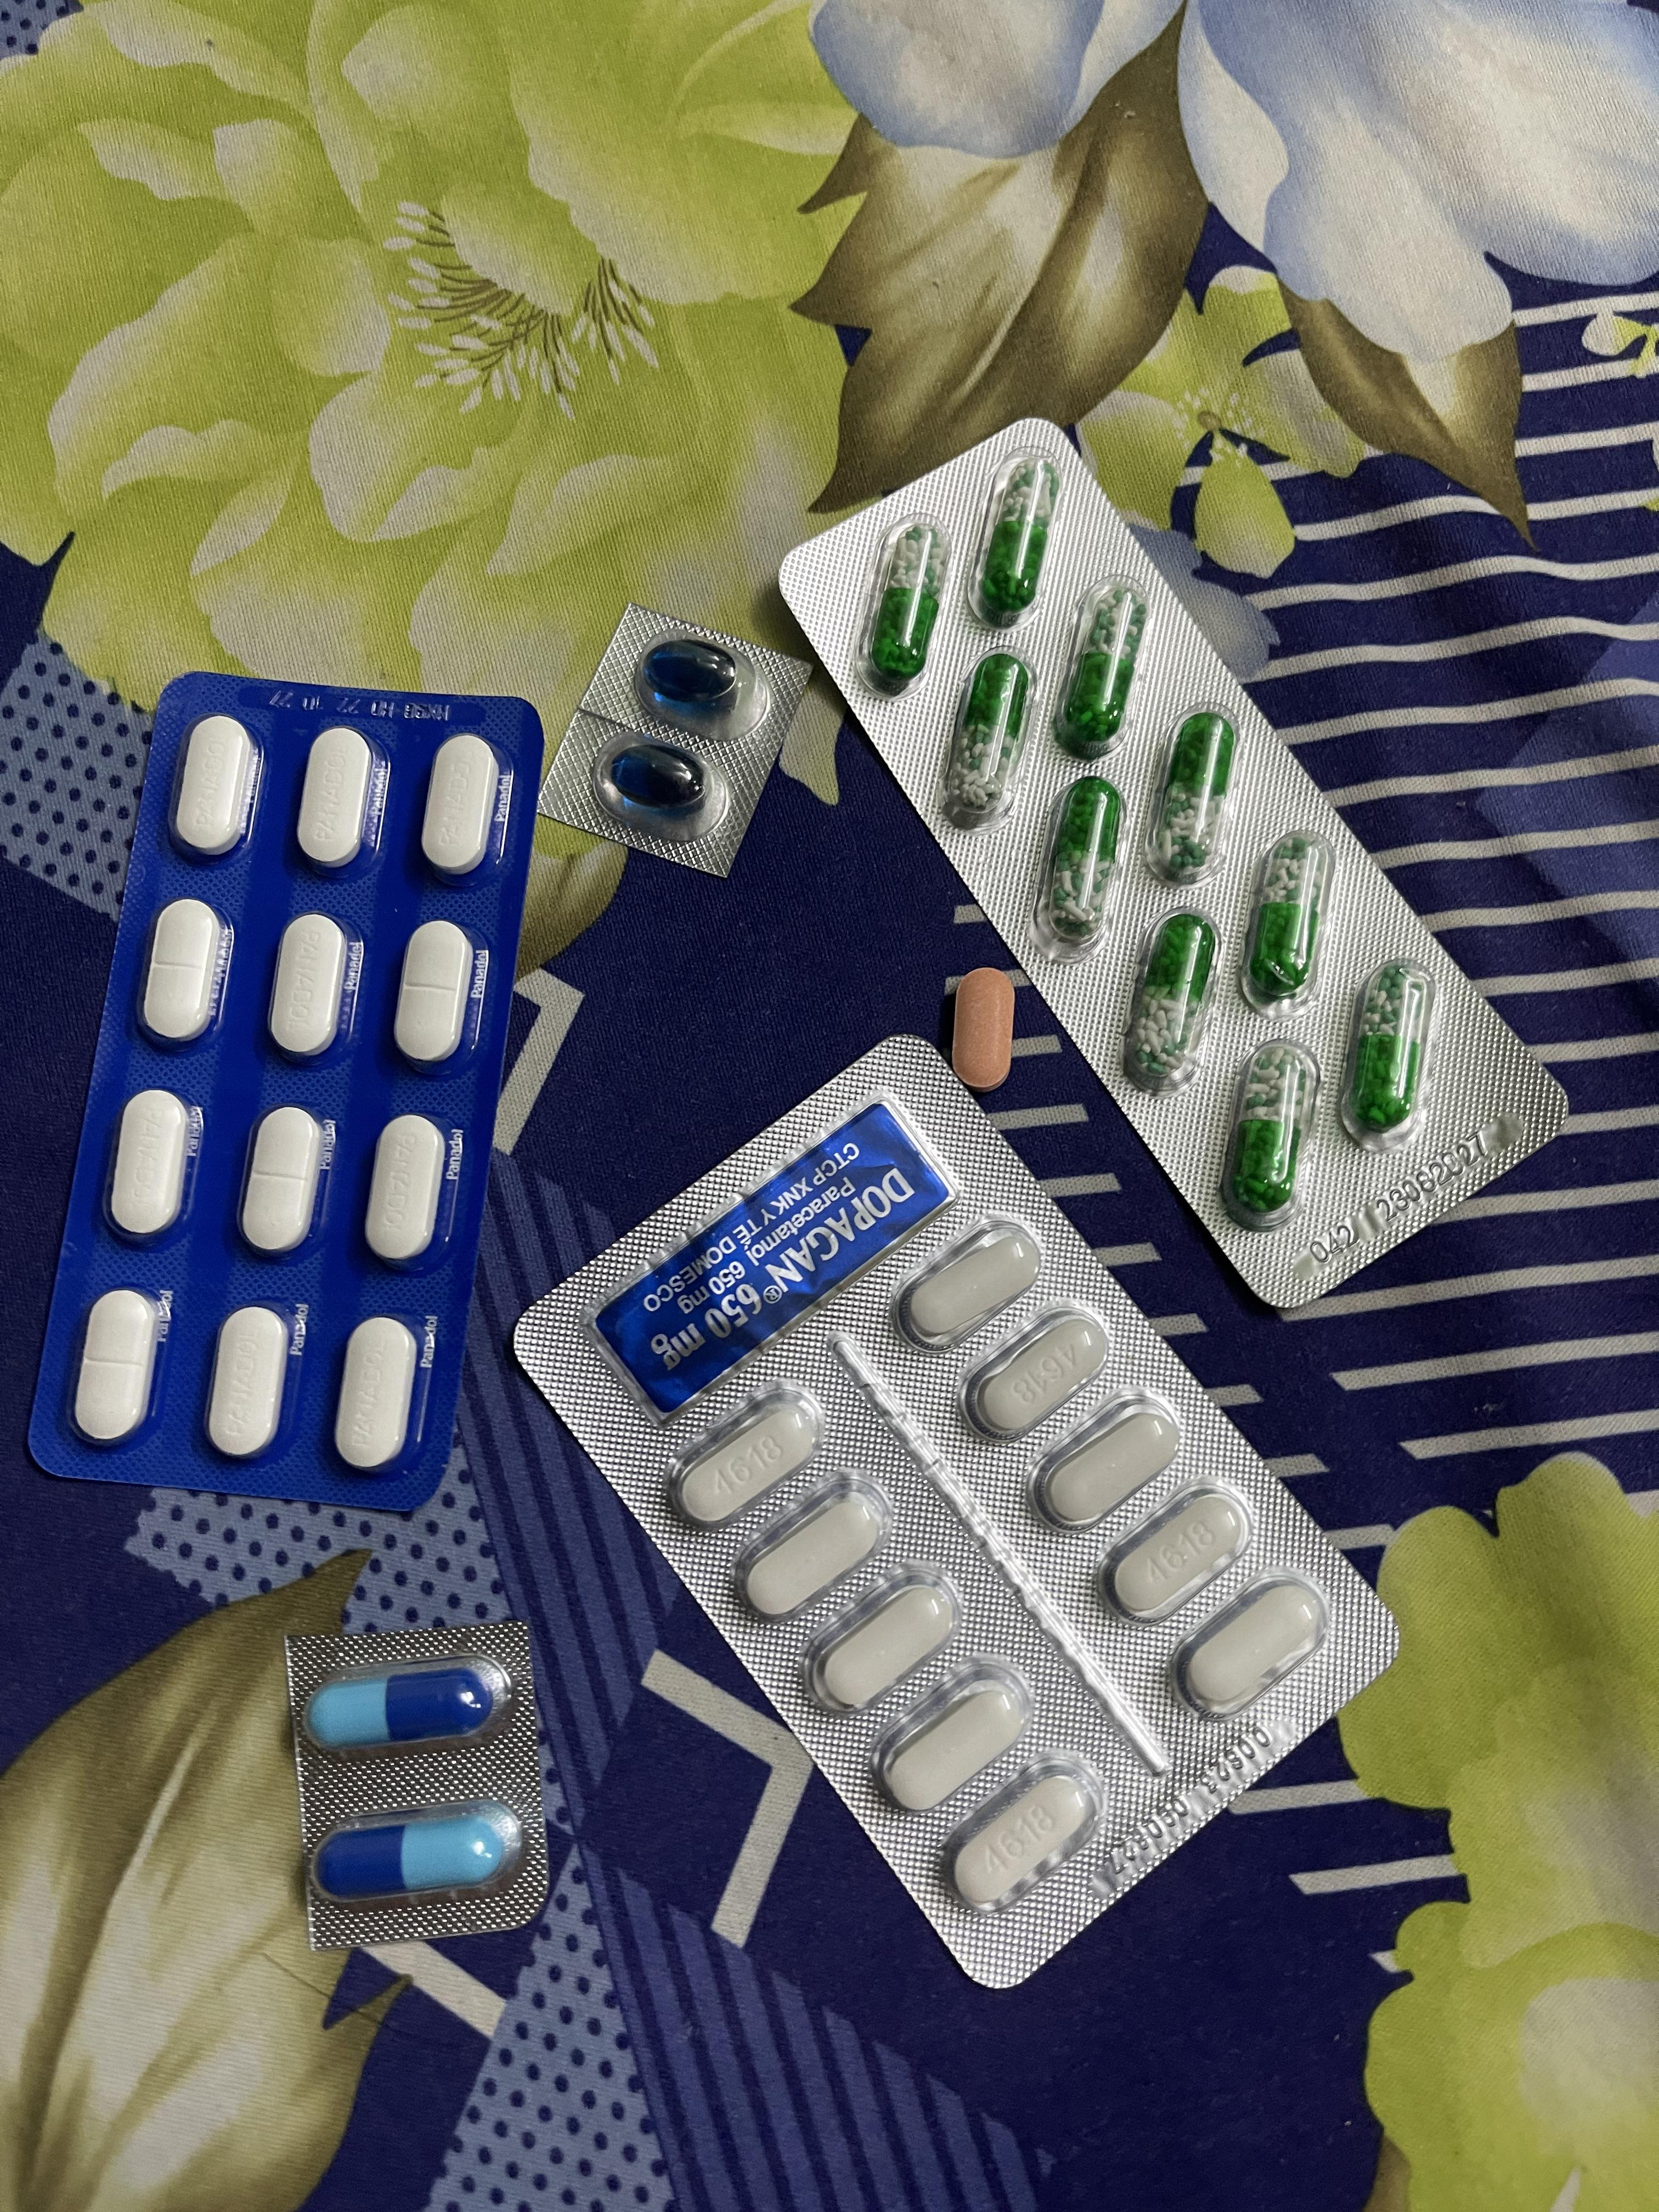Lincomyxin_500mg: (643, 637, 741, 705), (610, 745, 704, 810)
Loratadine_10mg: (950, 967, 1016, 1092)
Paracetamol_350mg: (71, 1289, 162, 1449), (333, 1315, 422, 1472), (206, 1305, 293, 1461), (106, 1089, 193, 1244), (239, 1104, 326, 1258), (362, 1115, 450, 1266), (139, 897, 227, 1045), (171, 714, 258, 860), (392, 920, 476, 1069), (267, 914, 350, 1064), (418, 735, 500, 874), (295, 726, 375, 867)
Paracetamol_500mg: (939, 1750, 1107, 1918), (870, 1653, 1035, 1813), (803, 1562, 969, 1719), (666, 1379, 821, 1534), (734, 1468, 889, 1623), (1030, 1390, 1190, 1536), (1091, 1472, 1246, 1618), (960, 1299, 1110, 1446), (1183, 1578, 1319, 1710), (903, 1226, 1030, 1343)
Paracetamol_650mg: (939, 653, 1037, 826), (1147, 714, 1241, 883), (1239, 838, 1331, 1008), (1129, 918, 1215, 1085), (1060, 592, 1143, 752), (978, 458, 1056, 622), (1230, 1049, 1307, 1216), (870, 524, 945, 681), (1351, 968, 1422, 1132), (1046, 787, 1122, 935)
pill: (310, 1801, 525, 1904), (305, 1667, 502, 1750)
